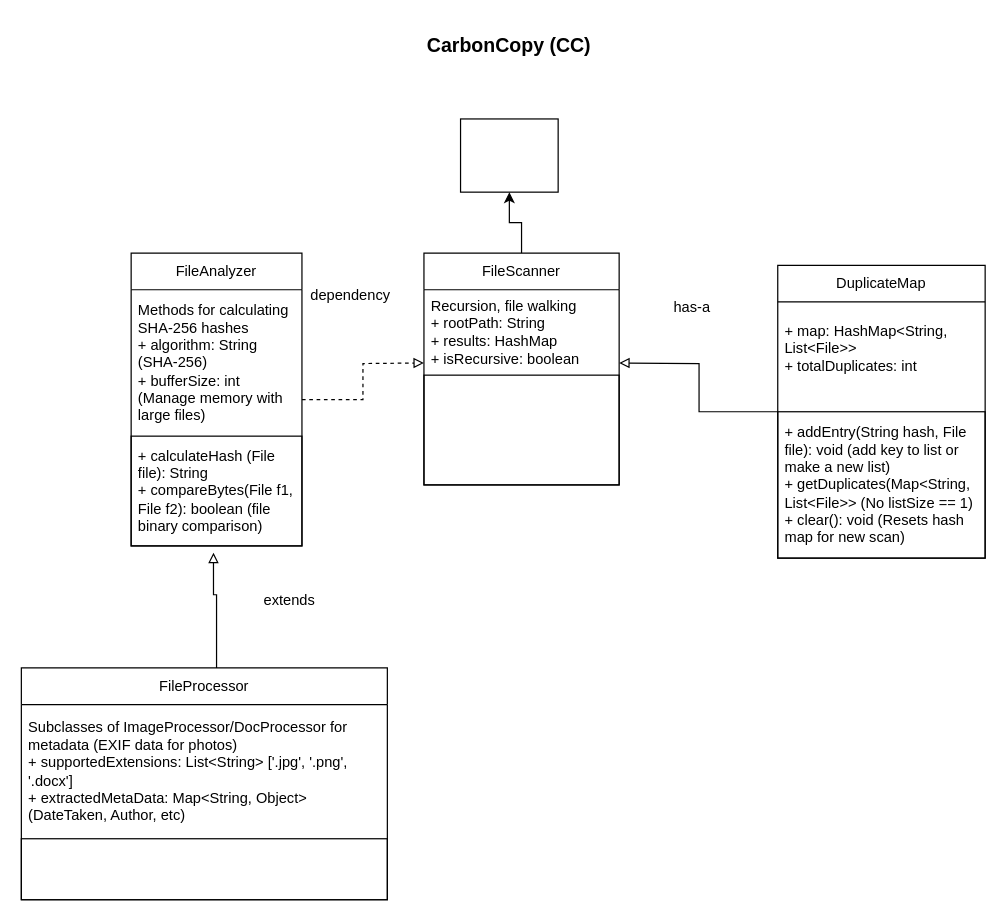
Some shapes in this 1007 by 921 pixel diagram are drawn without their labels. The centre of each missing label's shape, as x and y in pixels:
"+ parseDocument (File doc): String + extractExif(File image): void" belongs at [203,869].
"+ startScan (Path path): void + filterFiles (File[] files): List<File>" belongs at [521,429].
"RUNNABLE ENTRY POINT" belongs at [508,155].
